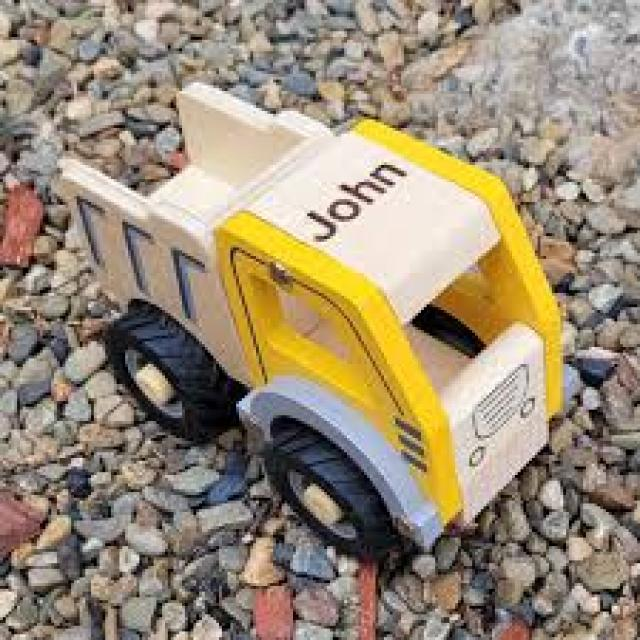dump_truck: (62, 76, 564, 559)
